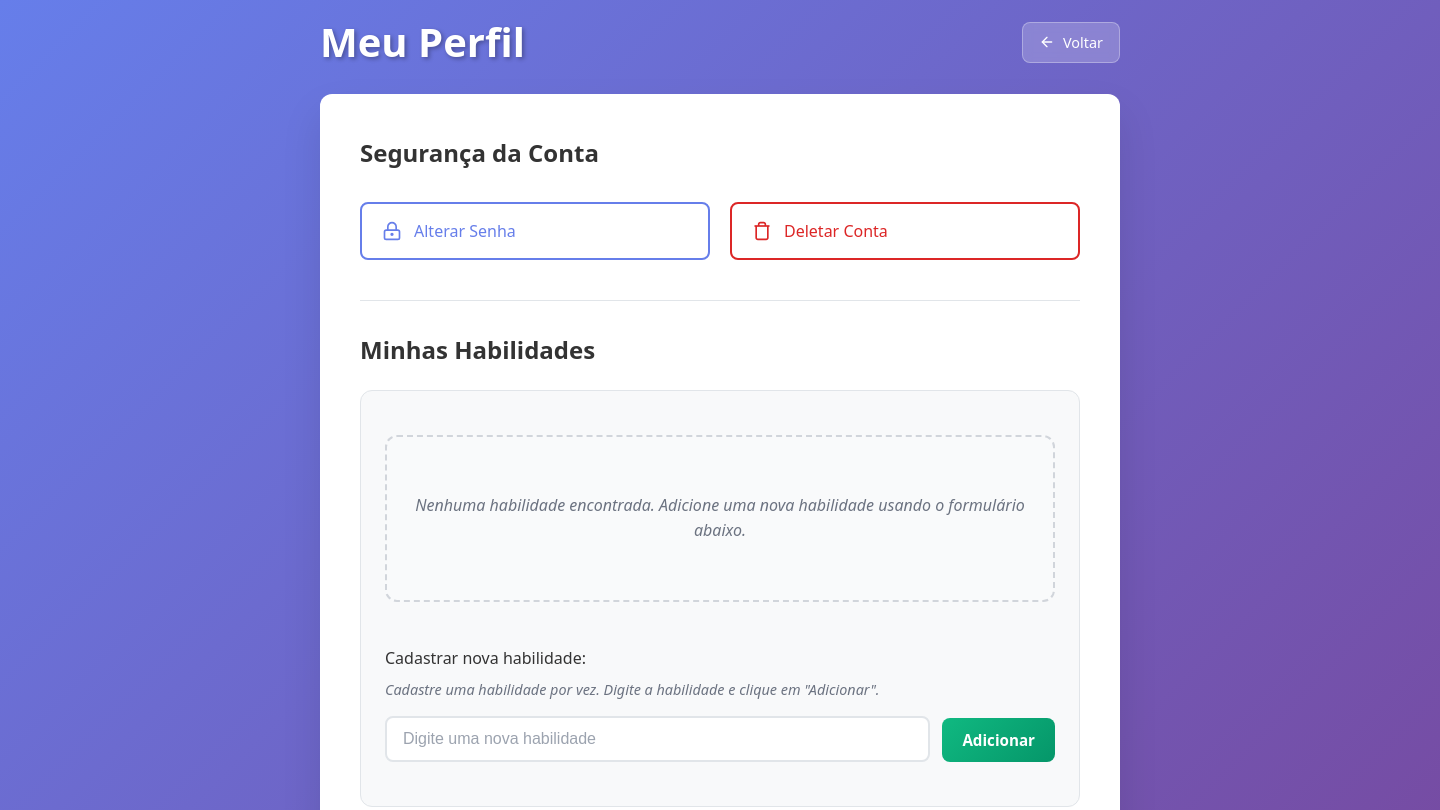
Profile - Skills Auto Focus › adiciona nova habilidade com sucesso
The image size is (1440, 810).
Type "React" into the field with placeholder "Digite uma nova habilidade" at [658, 739], box [385, 716, 930, 762]
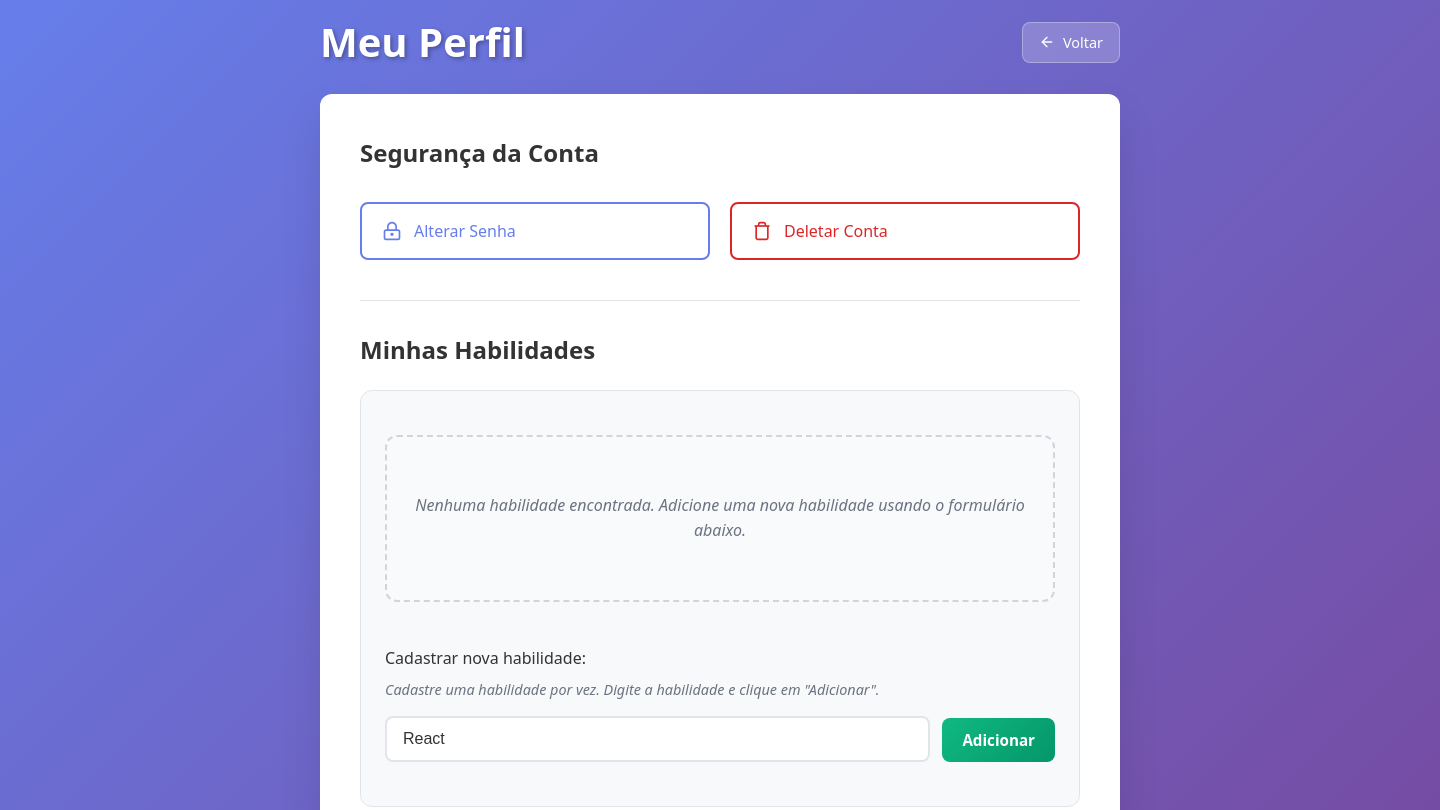
Click the button "Adicionar" at [999, 740], box [942, 718, 1055, 762]
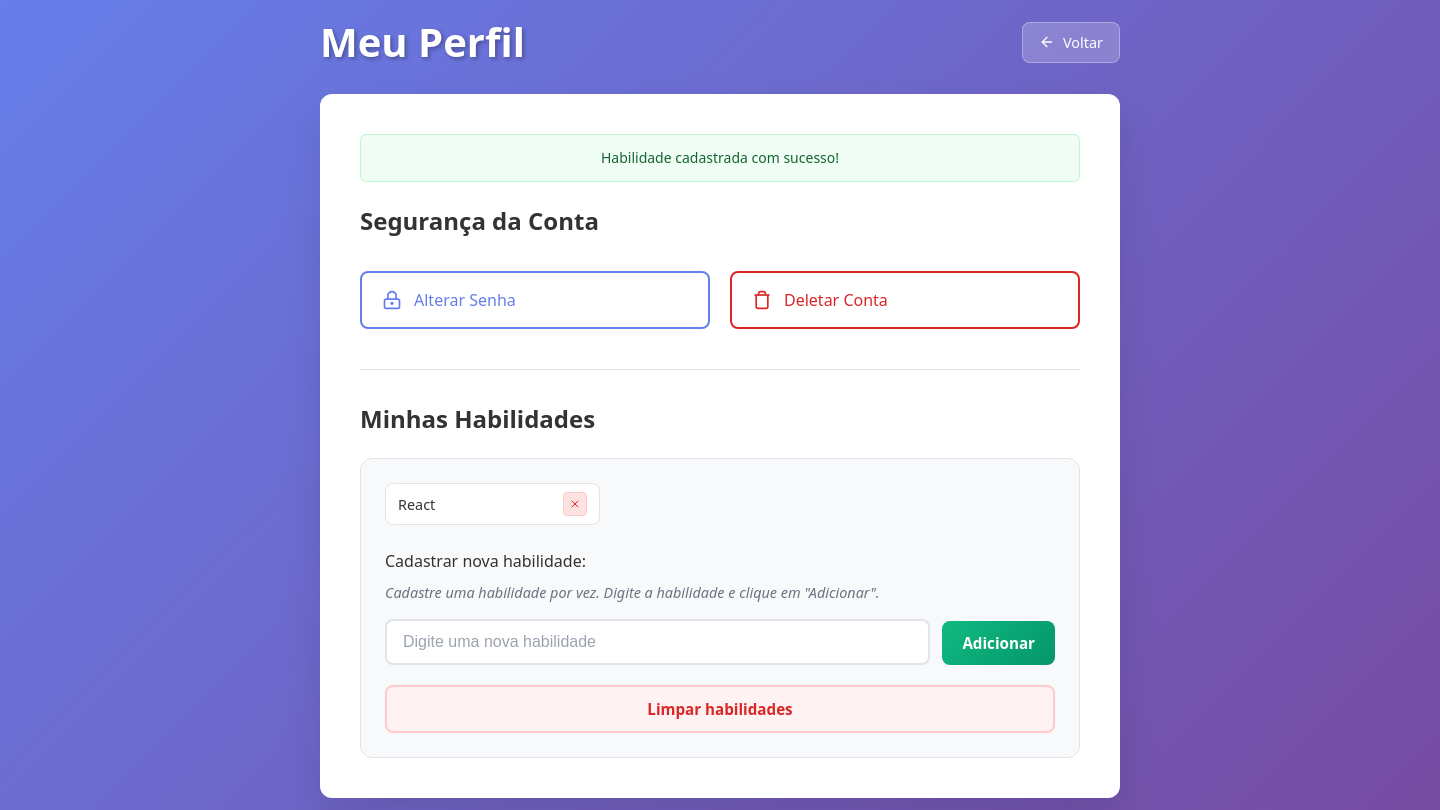
Expected: the text "Habilidade cadastrada com sucesso!" is shown, [360, 134, 1080, 182]
